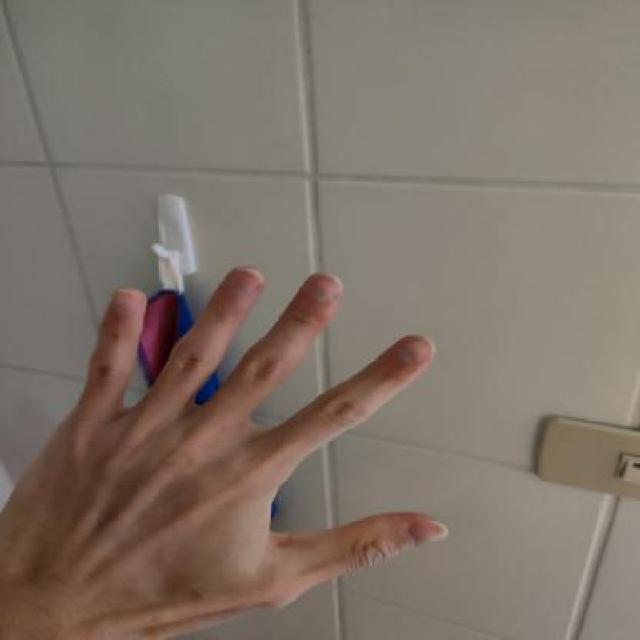no_glove: (0, 241, 477, 640)
